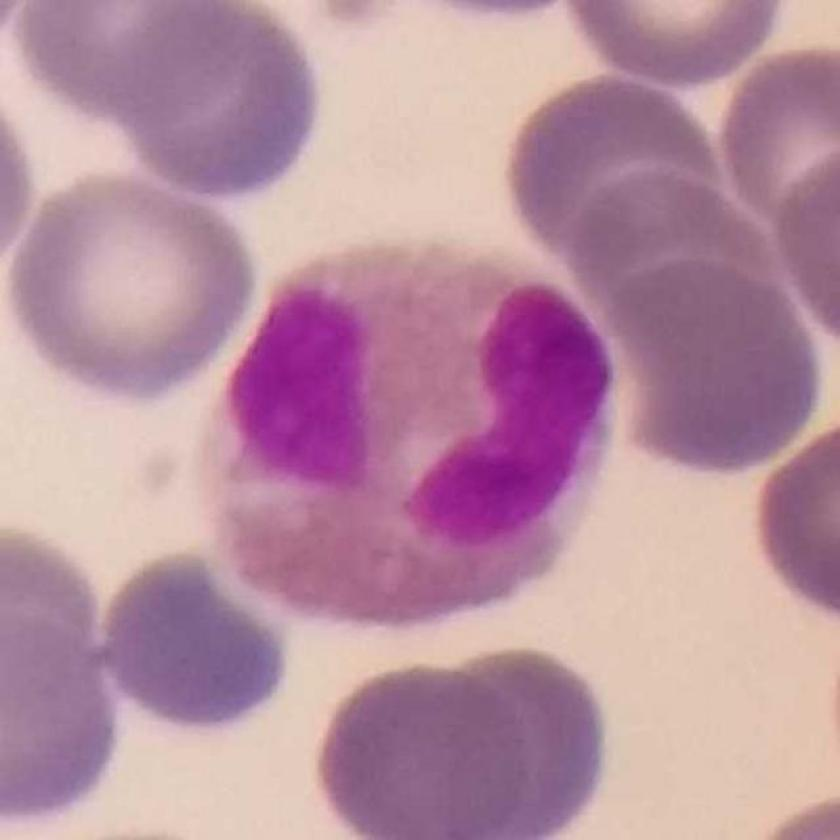eosinophil: (198, 240, 616, 630)
